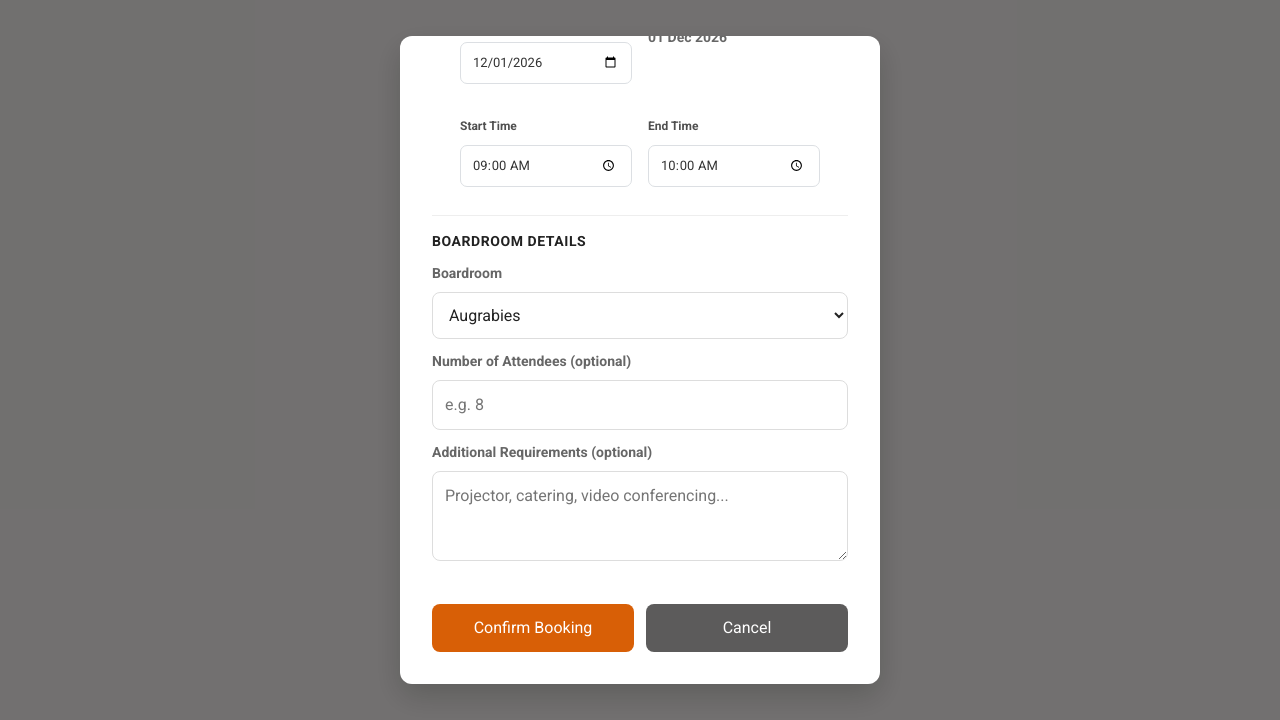
Test: BookingModal › shows an inline message and does not submit when a required field is missing
(page scrolled)
Step 1. Click the button "Confirm Booking" → (533, 628), box [432,604,634,652]
(page scrolled)
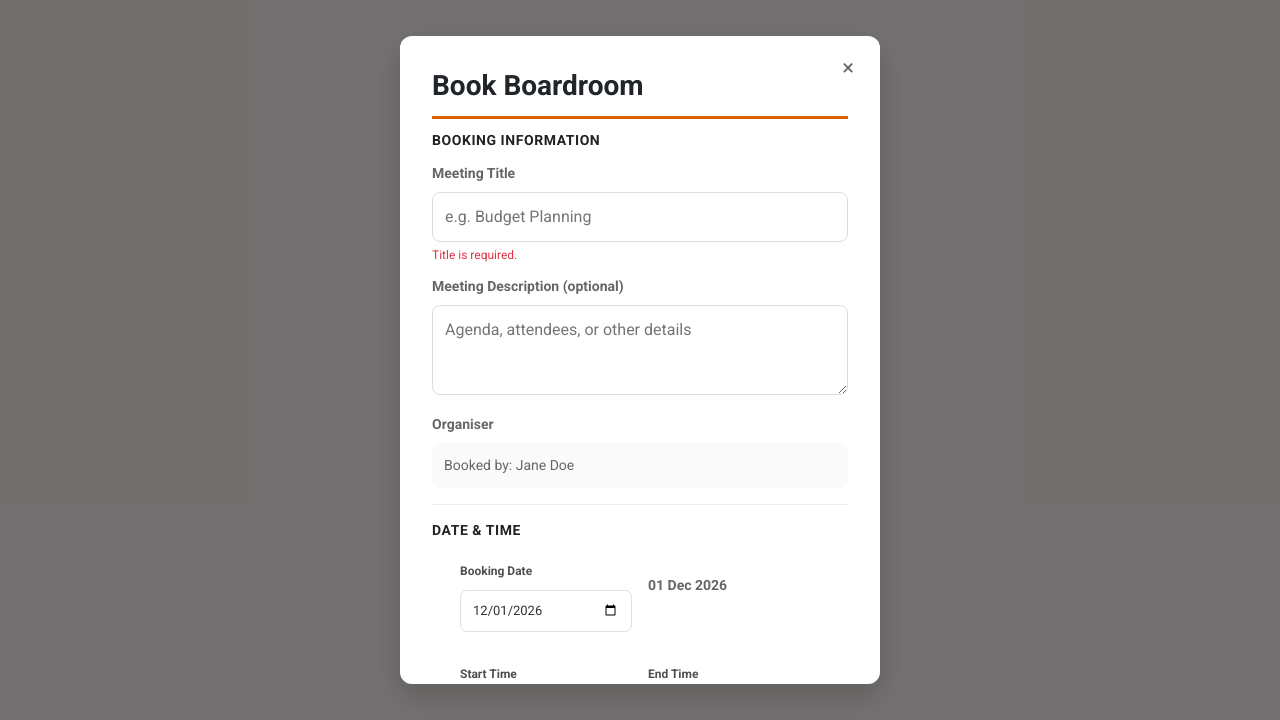
Check: the text "Title is required." is shown, box [432,248,517,262]
